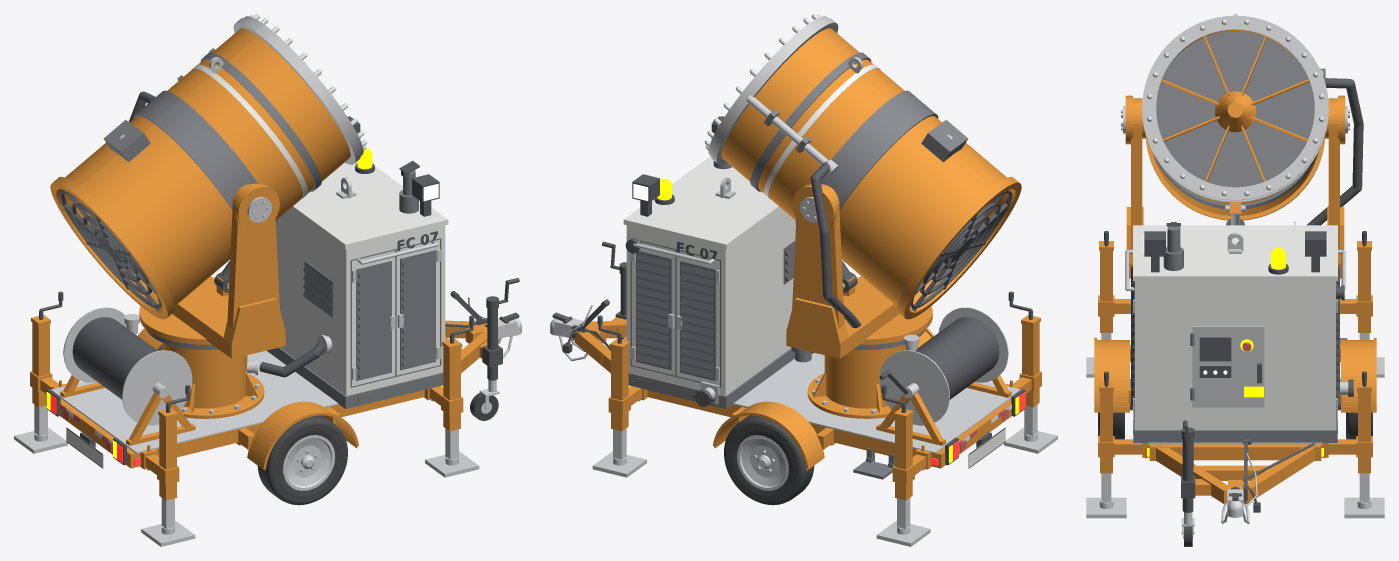
The model's file is Dust_Fog_Cannon.glb.
The picture shows the model from 3 angles, left to right: view 1: azimuth 30°, elevation 25°; view 2: azimuth 150°, elevation 25°; view 3: azimuth 270°, elevation 25°; orthographic projection.
Visible parts, largest first — view 1: frame, enclosure, axle, leaf_spring, deck, u_bolts, tyre_L; view 2: frame, enclosure, axle, deck, leaf_spring, u_bolts, tyre_L; view 3: enclosure, frame, leaf_spring, u_bolts, axle, control_door, deck, tyre_L, elevation_ram_rod, e_stop_collar.
Part boxes in pixels (x1,y1,x2,y2): frame: [30, 28, 499, 500]; enclosure: [66, 64, 448, 468]; axle: [39, 91, 519, 468]; leaf_spring: [103, 48, 443, 408]; deck: [34, 307, 521, 534]; u_bolts: [14, 16, 512, 546]; tyre_L: [157, 324, 498, 505]; frame: [572, 28, 1041, 500]; enclosure: [623, 64, 1011, 468]; axle: [552, 116, 1033, 468]; deck: [550, 307, 1037, 534]; leaf_spring: [628, 52, 968, 479]; u_bolts: [559, 16, 1057, 546]; tyre_L: [579, 324, 814, 505]; enclosure: [1133, 225, 1337, 429]; frame: [1094, 30, 1376, 503]; leaf_spring: [1130, 31, 1347, 442]; u_bolts: [1086, 14, 1384, 523]; axle: [1104, 78, 1366, 512]; control_door: [1192, 326, 1264, 407]; deck: [1099, 221, 1371, 538]; tyre_L: [1098, 412, 1372, 546]; elevation_ram_rod: [1147, 19, 1323, 225]; e_stop_collar: [1147, 247, 1323, 456].
Size of the model in its own units: 73.58 by 66.57 by 41.6.
